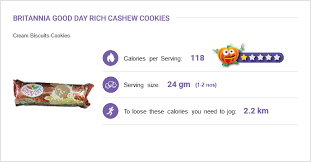gooday-small: (10, 79, 91, 108)
